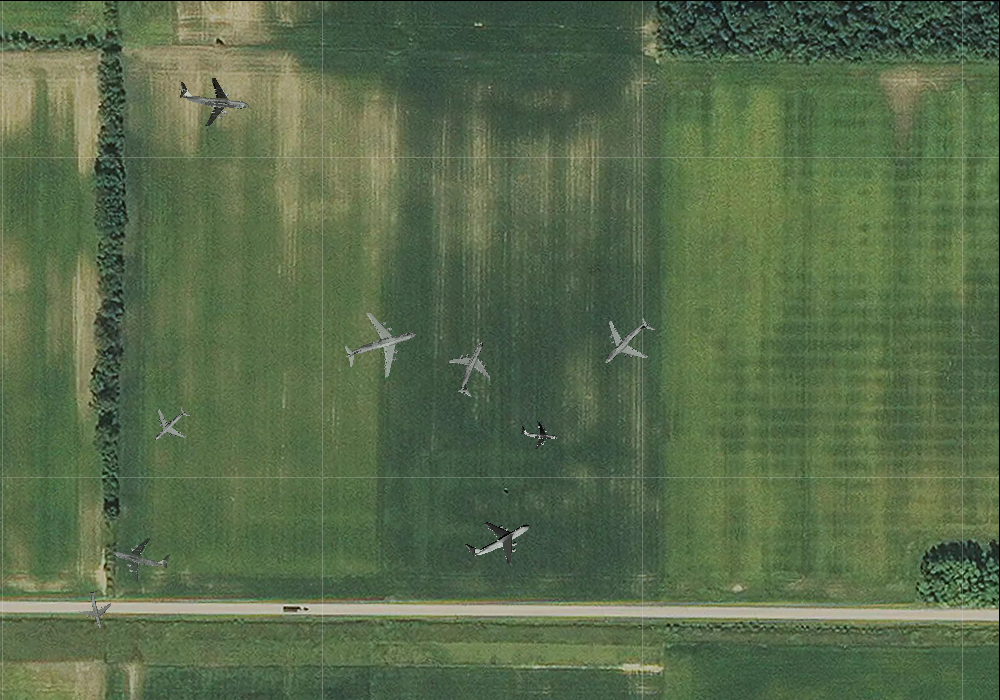plane: (335, 300, 426, 389), (455, 497, 542, 582), (586, 300, 669, 384), (174, 63, 252, 132), (437, 332, 507, 405), (105, 524, 175, 591), (141, 396, 199, 454), (73, 586, 118, 633), (518, 415, 559, 452)
